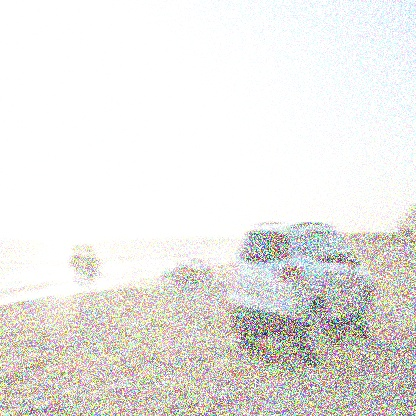Vehicle: (225, 208, 374, 369)
